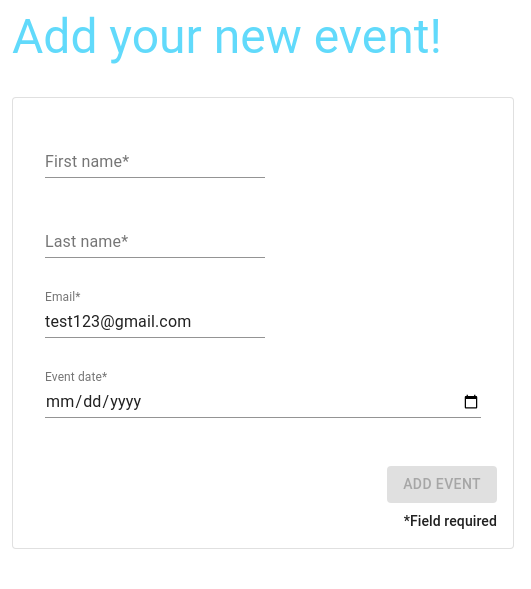
Test: MainPage › input › shows appropriate error message if input is empty
This screenshot has width=531, height=589.
Clear the field with placeholder "Enter email": (155, 322) [45, 306, 265, 338]
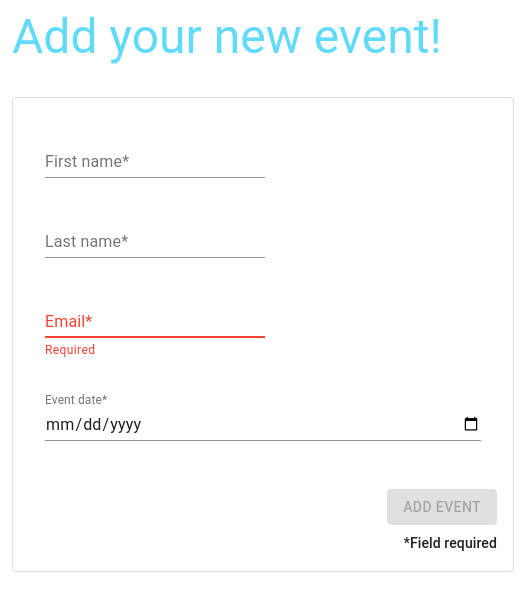
Expected: the text "Required" is shown, [45, 343, 95, 357]
